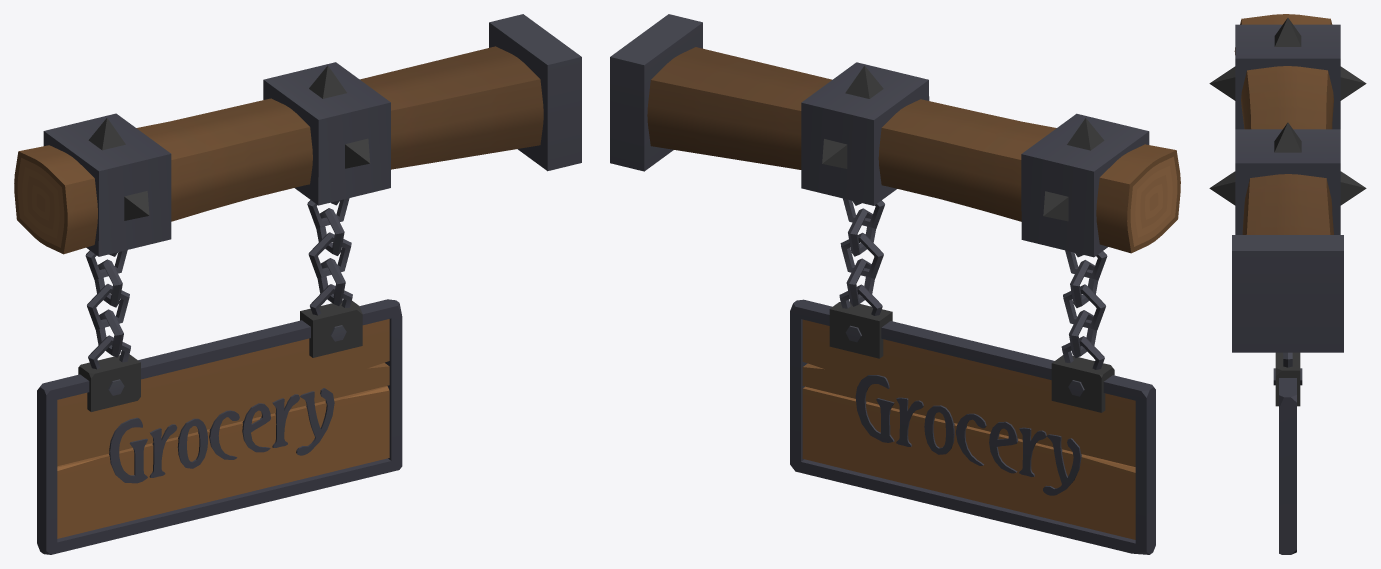
Rendered from SignBoard_01.glb.
3 views of the same model, side by side, from view 1: azimuth 30°, elevation 25°; view 2: azimuth 150°, elevation 25°; view 3: azimuth 270°, elevation 25° (orthographic). The views are drawn at different scales.
Parts seen in each view (by area): view 1: SignBoard_01_LOD0; view 2: SignBoard_01_LOD0; view 3: SignBoard_01_LOD0.
Boxes of the visible parts, x1,y1,x2,y2 form: SignBoard_01_LOD0: (14, 14, 581, 554); SignBoard_01_LOD0: (610, 14, 1180, 554); SignBoard_01_LOD0: (1209, 14, 1366, 554).
Size of what is drawn, in the model's own units: 0.9475 by 0.7395 by 0.2628.
1 material, 1 textured.
